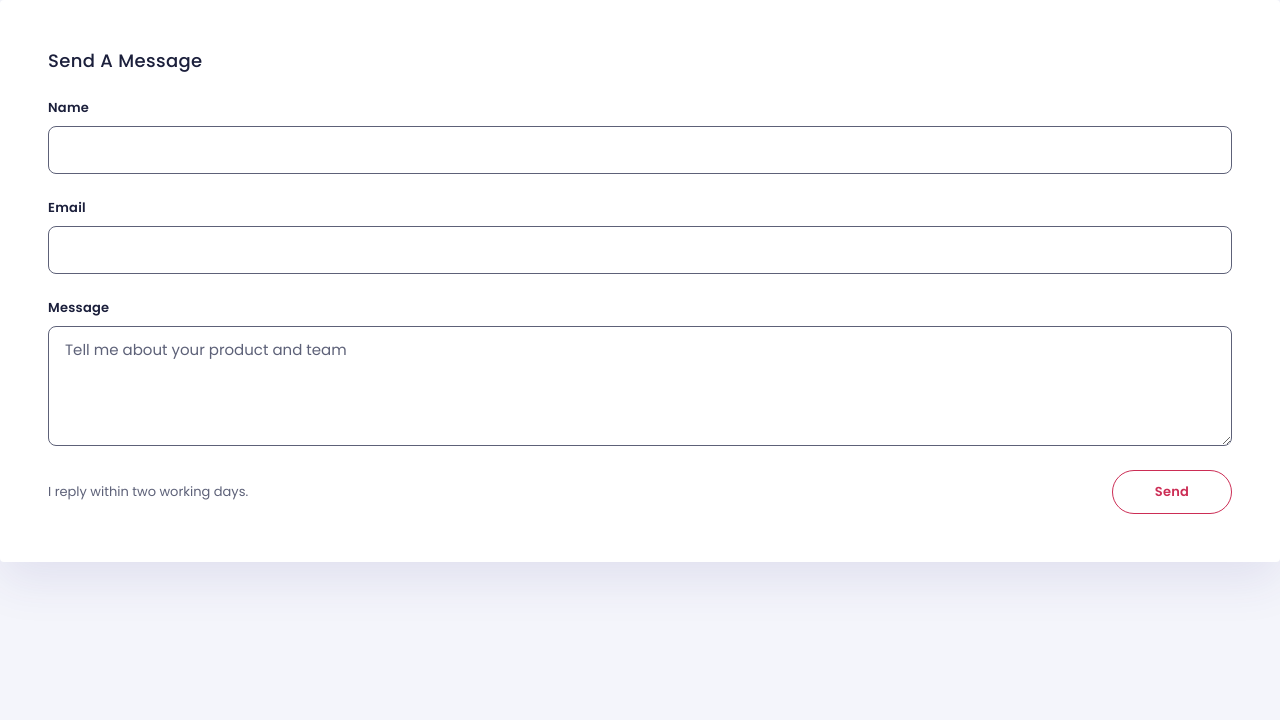
Test: ContactCard validation › shows an inline error on blur with icon text and aria wiring, and clears it when fixed
Type "asha@company" into the field labelled "Email".
click(640, 250); type("asha@company")  # box [48,226,1232,274]
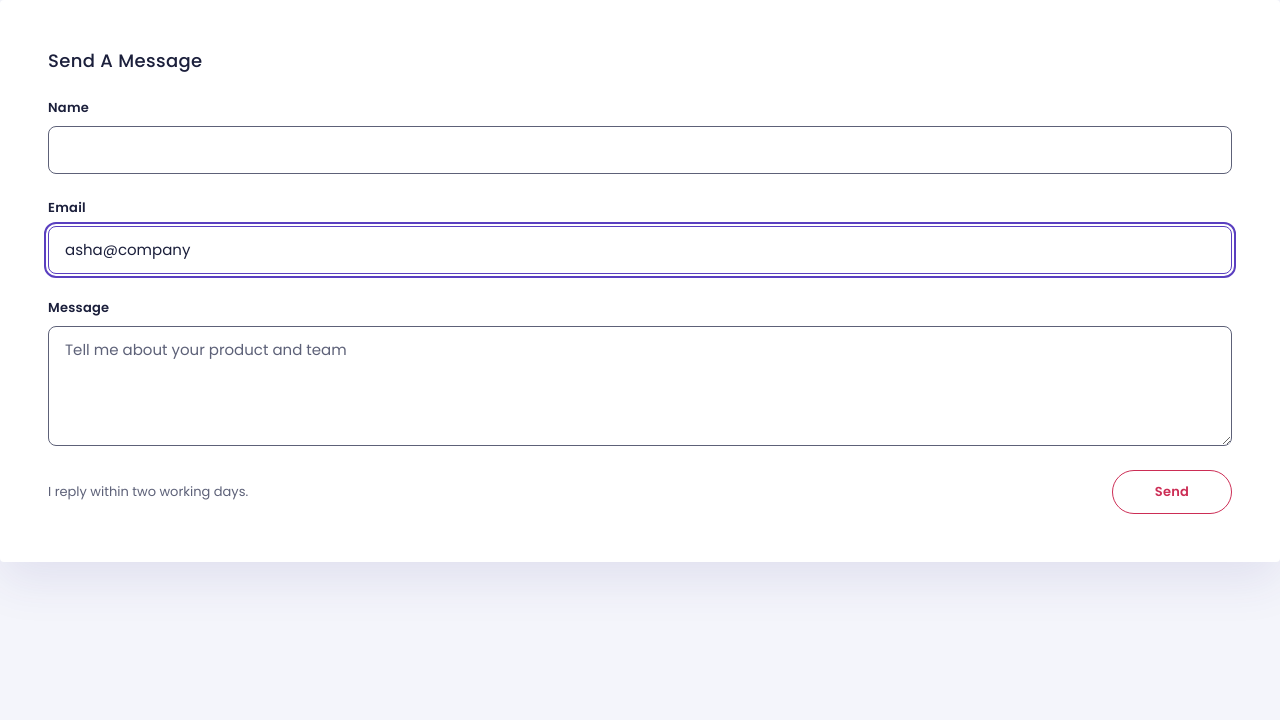
Press Tab
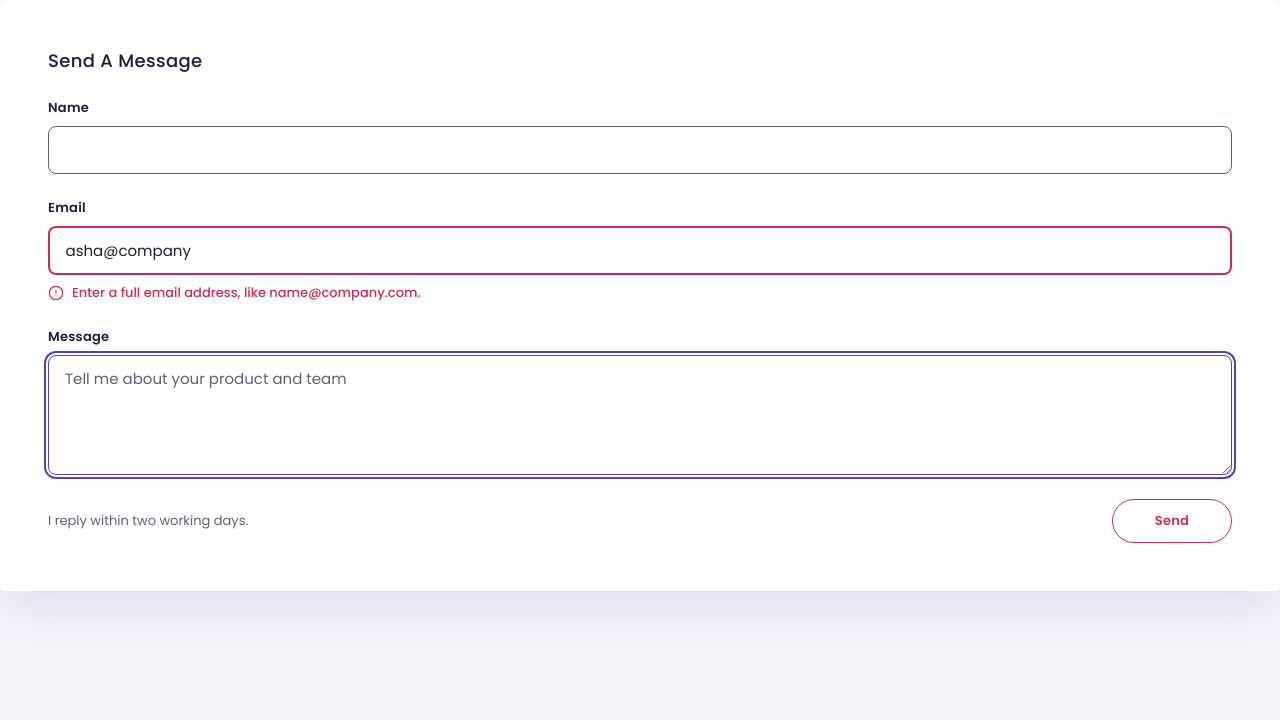
Result: the field labelled "Email" is marked as invalid
Result: the field labelled "Email" has class "is-error"
Type ".com" into the field labelled "Email".
click(640, 250); type(".com")  # box [48,226,1232,275]
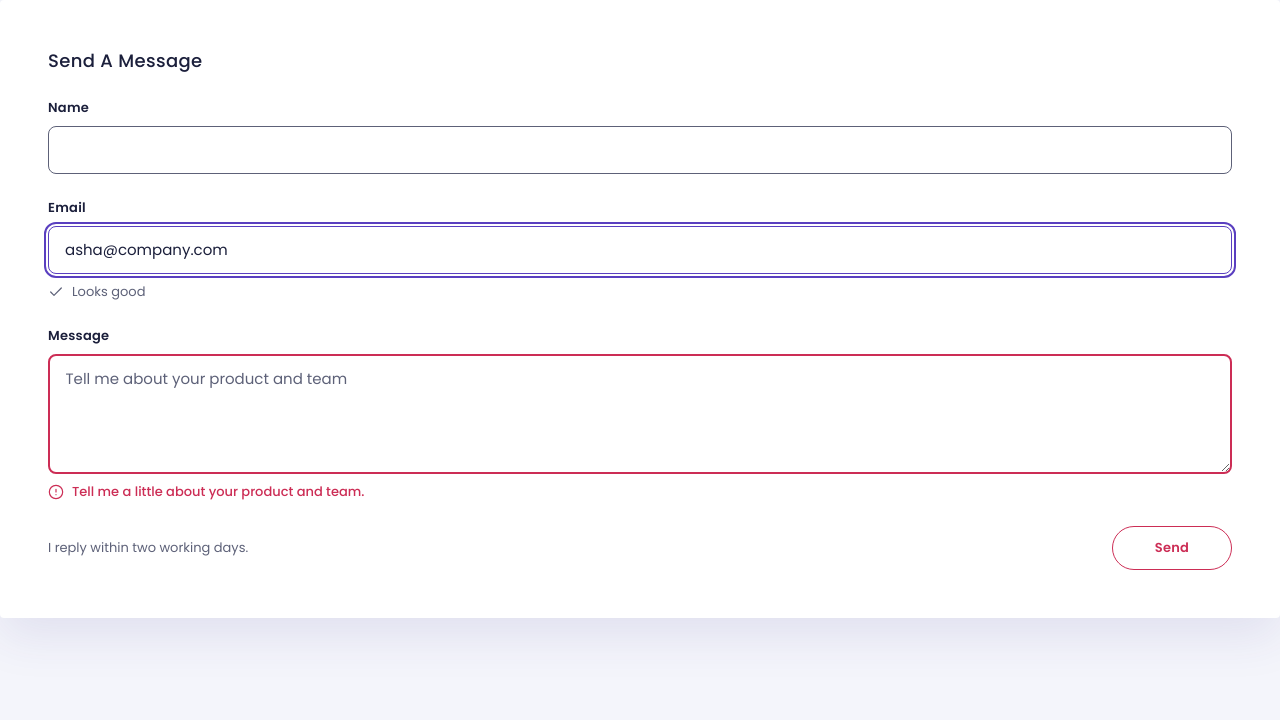
Result: the field labelled "Email" does not have attribute aria-invalid at [48,226,1232,274]
